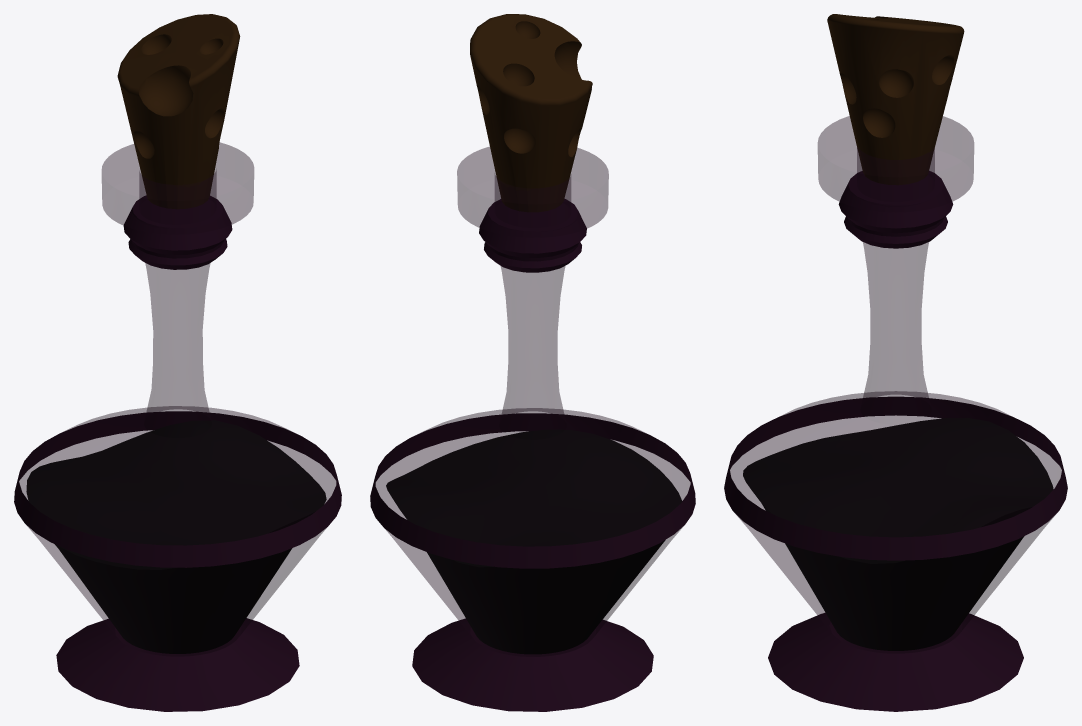
The model's file is potion1.2.fbx.
3 views of the same model, side by side, from view 1: azimuth 30°, elevation 25°; view 2: azimuth 150°, elevation 25°; view 3: azimuth 270°, elevation 25° (orthographic). The views are drawn at different scales.
Visible parts, largest first — view 1: pCylinder7.004, pCylinder7.005; view 2: pCylinder7.004, pCylinder7.005; view 3: pCylinder7.004, pCylinder7.005.
Part boxes in pixels (x1=…): pCylinder7.004: x1=14, y1=14, x2=341, y2=711; pCylinder7.005: x1=26, y1=420, x2=326, y2=653; pCylinder7.004: x1=370, y1=14, x2=695, y2=711; pCylinder7.005: x1=386, y1=429, x2=682, y2=654; pCylinder7.004: x1=724, y1=14, x2=1067, y2=711; pCylinder7.005: x1=743, y1=417, x2=1053, y2=650.
Size of the model in its own units: 32.16 by 68.14 by 32.16.
